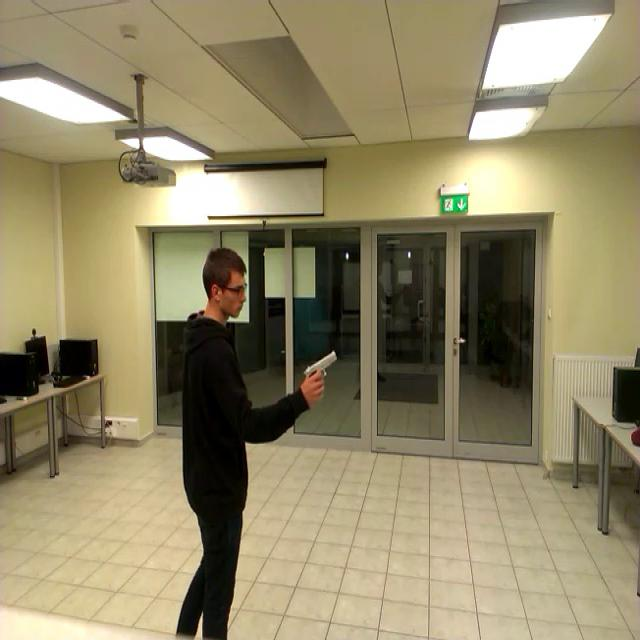handgun: (298, 340, 340, 402)
